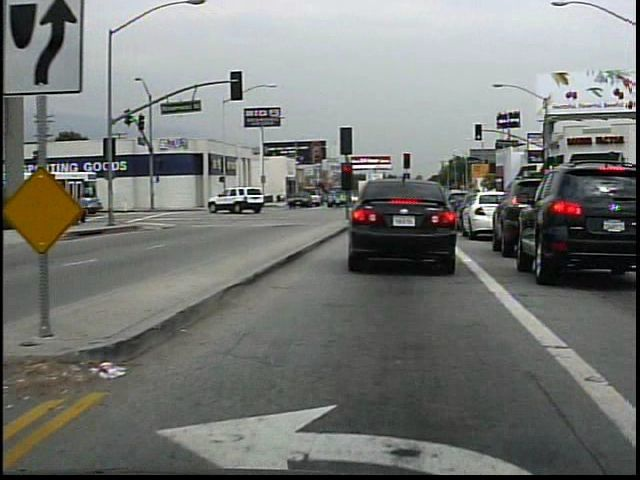person: (76, 189, 97, 226)
